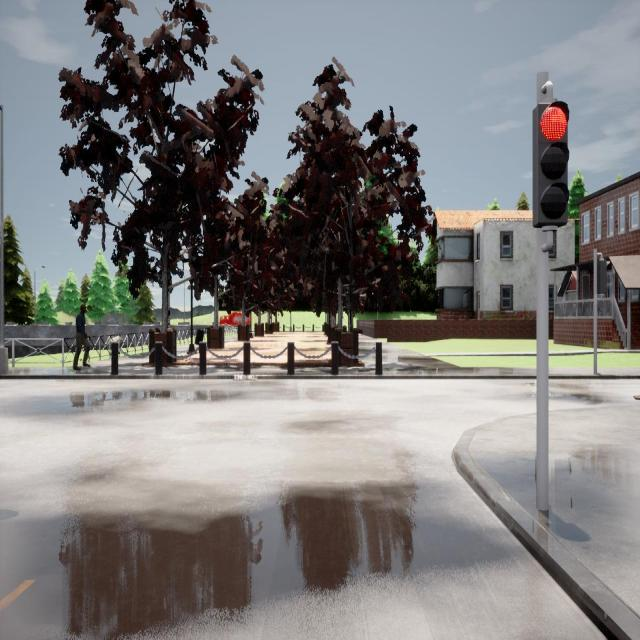Pedestrian: (73, 304, 89, 370)
Vehicle: (210, 310, 253, 326)
traffic_light: (533, 101, 570, 228), (598, 260, 610, 294)
